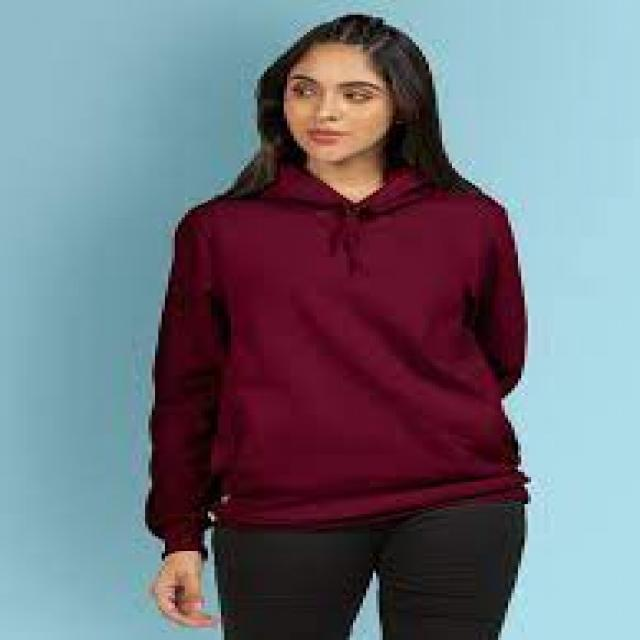plain: (54, 163, 604, 546)
